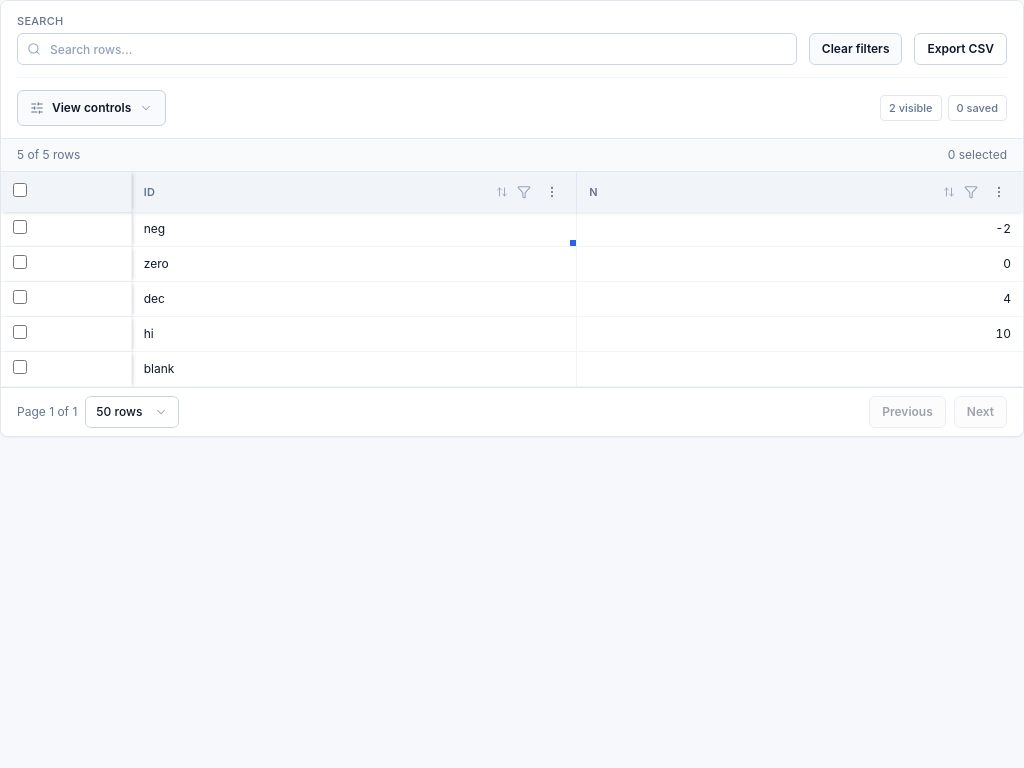
Test case: type-aware filter predicate coverage › number: min-only keeps rows >= min
The width and height of the screenshot is (1024, 768).
Click the button named "N filter" at point(971, 192), box [959,180,983,204]
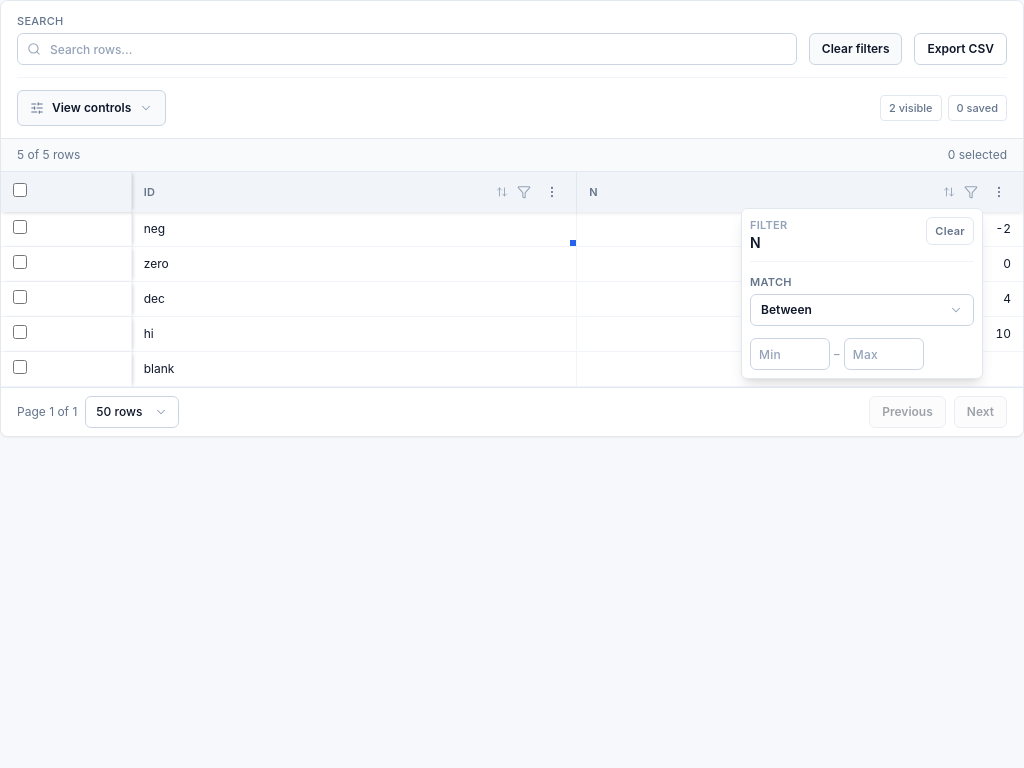
Type "3.5" into the number field named "N minimum" at point(790, 354), box [750,338,830,370]
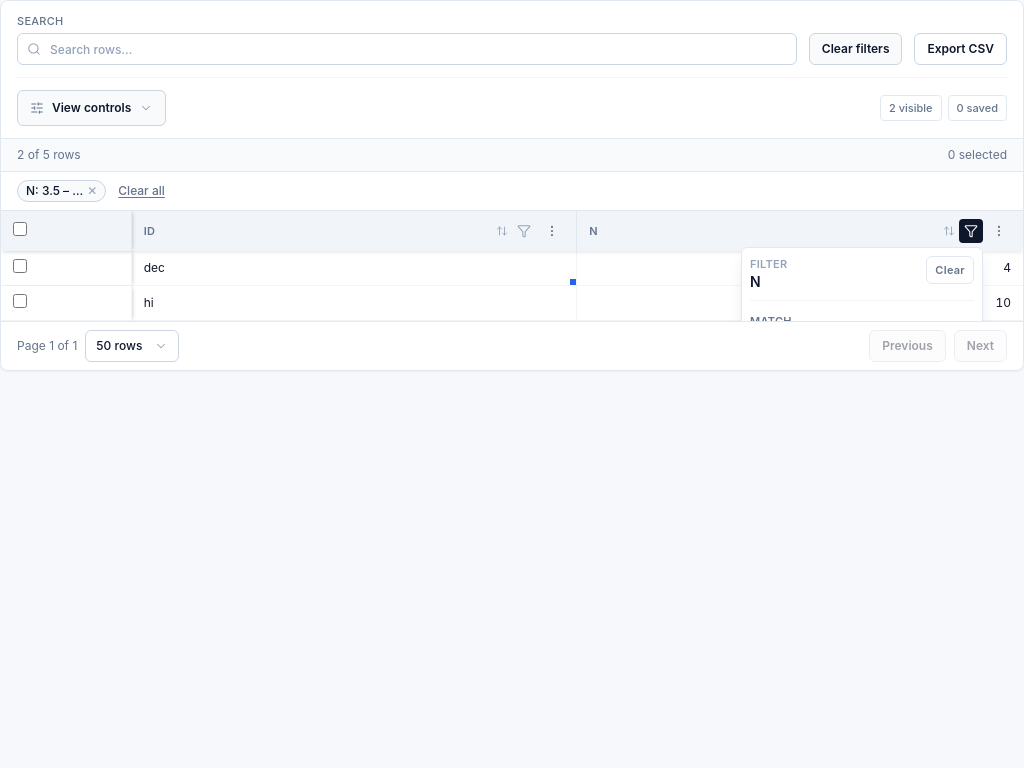
Expected: the text "neg" is gone
Expected: the text "zero" is gone
Expected: the text "blank" is gone
